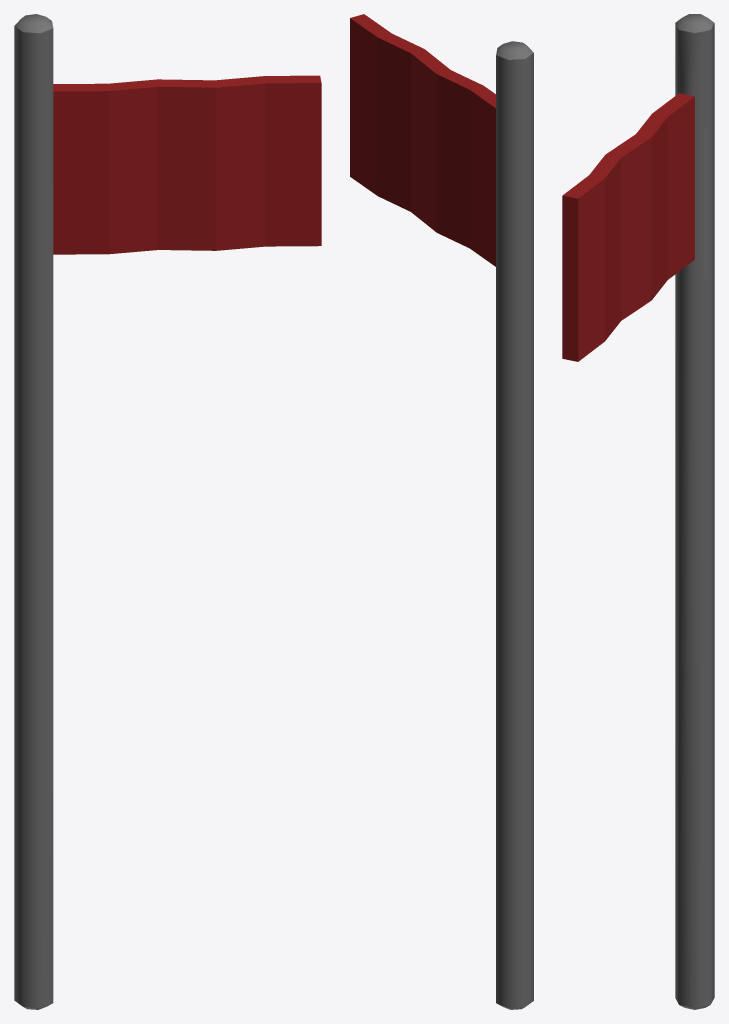
The model's file is Флаг.FBX.
3 views of the same model, side by side, from view 1: azimuth 30°, elevation 25°; view 2: azimuth 150°, elevation 25°; view 3: azimuth 270°, elevation 25° (orthographic). The views are drawn at different scales.
Parts seen in each view (by area): view 1: Cylinder001; view 2: Cylinder001; view 3: Cylinder001.
Boxes of the visible parts, x1,y1,x2,y2 form: Cylinder001: (14,14,321,1009); Cylinder001: (350,14,533,1009); Cylinder001: (562,14,714,1009).
Bounding box in the file's own units: 20.87 × 80.86 × 11.31.
